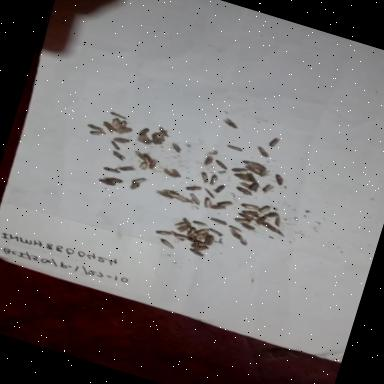pbw: (241, 160, 265, 170), (160, 187, 180, 199), (220, 118, 240, 130), (100, 122, 118, 135), (225, 227, 242, 240), (255, 146, 270, 160), (236, 186, 255, 197), (153, 227, 172, 238), (186, 194, 202, 207), (183, 182, 200, 194), (243, 181, 260, 193), (97, 178, 117, 188), (154, 190, 174, 200), (187, 237, 207, 247), (232, 169, 250, 180), (234, 233, 249, 246), (212, 159, 228, 171), (118, 164, 134, 176), (242, 172, 258, 184), (136, 134, 152, 146), (209, 202, 226, 213), (196, 170, 209, 184), (172, 194, 190, 204), (234, 216, 252, 226), (240, 207, 258, 217), (160, 168, 178, 178), (158, 238, 174, 249), (134, 150, 148, 162), (144, 158, 158, 170), (156, 124, 170, 136), (192, 243, 207, 254), (116, 125, 131, 136), (108, 111, 126, 120), (172, 233, 188, 243), (88, 128, 104, 138), (216, 199, 232, 209), (236, 174, 252, 184), (266, 136, 278, 149), (112, 151, 126, 162), (238, 202, 255, 211), (101, 166, 120, 174), (261, 210, 276, 220), (230, 166, 246, 175), (188, 220, 206, 228), (202, 234, 214, 246), (236, 213, 254, 221), (258, 204, 270, 216), (128, 180, 140, 192), (108, 140, 120, 152), (180, 216, 192, 228), (212, 184, 224, 196), (186, 225, 197, 238), (131, 176, 145, 186), (208, 176, 219, 188), (260, 184, 273, 194), (168, 168, 181, 178), (188, 250, 204, 258), (226, 144, 242, 152), (208, 218, 226, 225), (112, 136, 126, 145), (238, 180, 252, 189), (202, 199, 213, 210), (256, 216, 266, 228), (108, 118, 120, 128), (106, 176, 121, 184), (86, 122, 100, 130), (240, 222, 254, 230), (226, 224, 240, 232), (244, 168, 258, 176), (273, 218, 283, 228), (138, 160, 148, 170), (202, 156, 212, 166), (210, 228, 222, 236), (170, 144, 182, 152), (174, 224, 186, 232), (258, 168, 266, 178), (197, 228, 206, 236), (275, 178, 283, 186), (141, 127, 148, 134), (121, 121, 126, 128)
